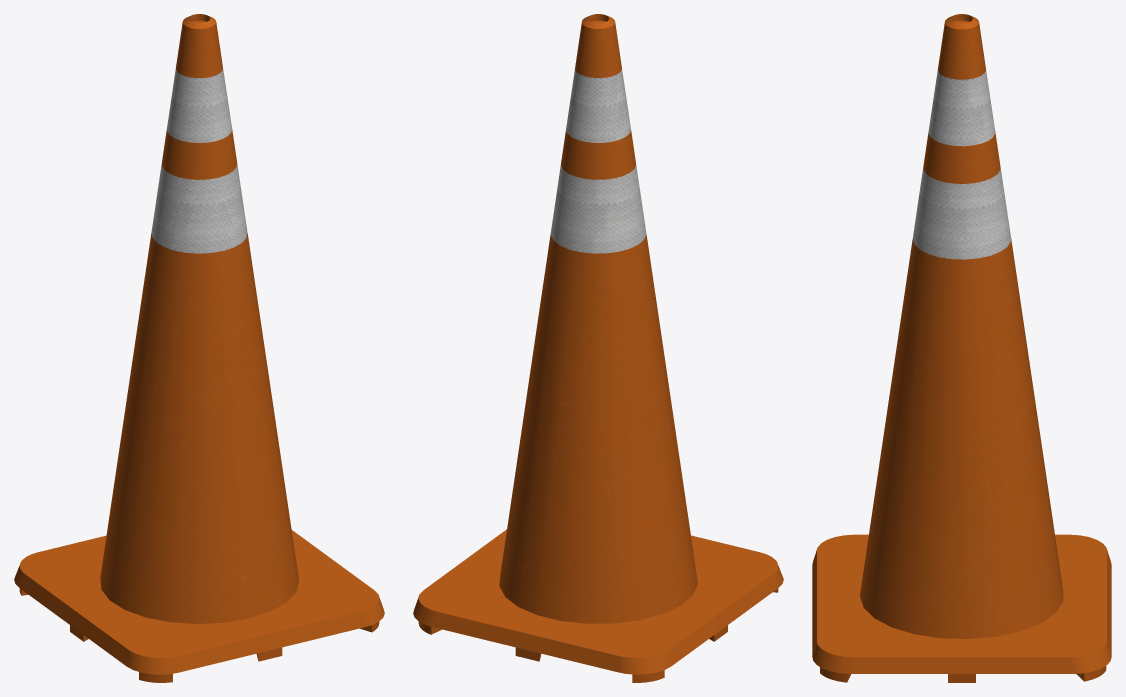
The model's file is traffic-cone-3.glb.
3 views of the same model, side by side, from view 1: azimuth 30°, elevation 25°; view 2: azimuth 150°, elevation 25°; view 3: azimuth 270°, elevation 25° (orthographic). The views are drawn at different scales.
Parts seen in each view (by area): view 1: Object_79; view 2: Object_79; view 3: Object_79.
Boxes of the visible parts, x1,y1,x2,y2 form: Object_79: (14,14,384,682); Object_79: (413,14,783,682); Object_79: (812,14,1111,682).
Bounding box in the file's own units: 0.393 × 0.8738 × 0.3928.
Materials: 1 (1 with a texture image).
